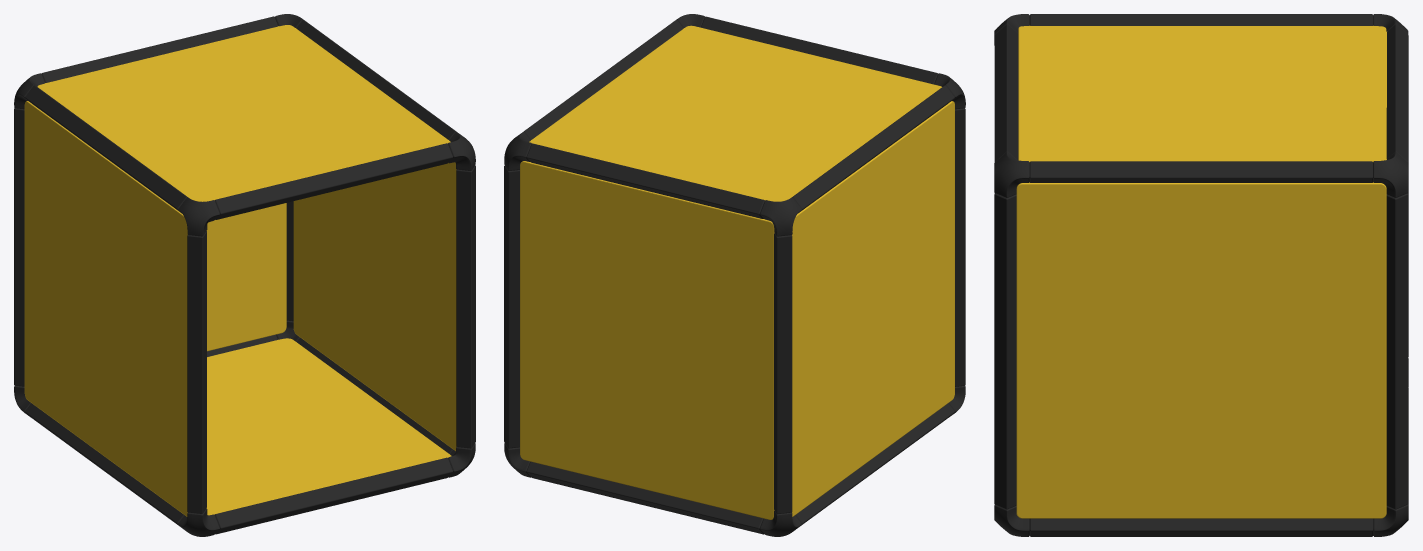
The picture shows the model from 3 angles, left to right: view 1: azimuth 30°, elevation 25°; view 2: azimuth 150°, elevation 25°; view 3: azimuth 270°, elevation 25°; orthographic projection. The views are drawn at different scales.
Visible parts, largest first — view 1: 329x374x374; view 2: 329x374x374; view 3: 329x374x374.
Part boxes in pixels (<box>): 329x374x374: <box>14,14,475,536</box>; 329x374x374: <box>504,14,965,536</box>; 329x374x374: <box>994,14,1408,536</box>.
Bounding box in the file's own units: 0.4067 × 0.4516 × 0.4513.
